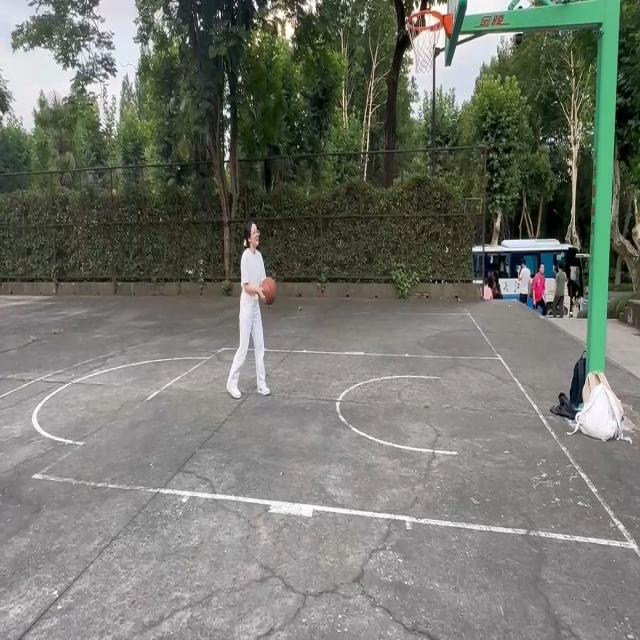basketball: (407, 8, 453, 80)
rim: (264, 276, 278, 302)
